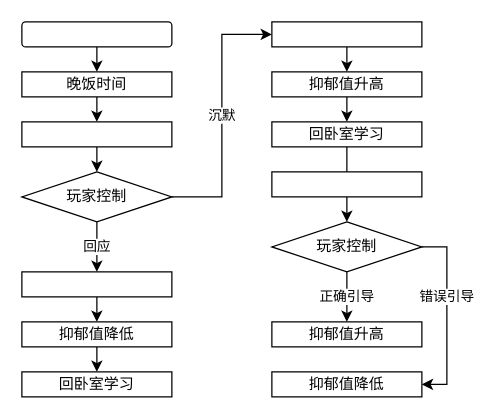
This 496x419 diagram has some shape labels left out. Here are the shapes that lost their labels. From the top down, the centre of each, then its label:
At point 96,34: "第二章".
At point 346,34: "发生误会".
At point 96,134: "和父亲对话".
At point 346,184: "第二人格自我对话".
At point 96,284: "消除误解".
